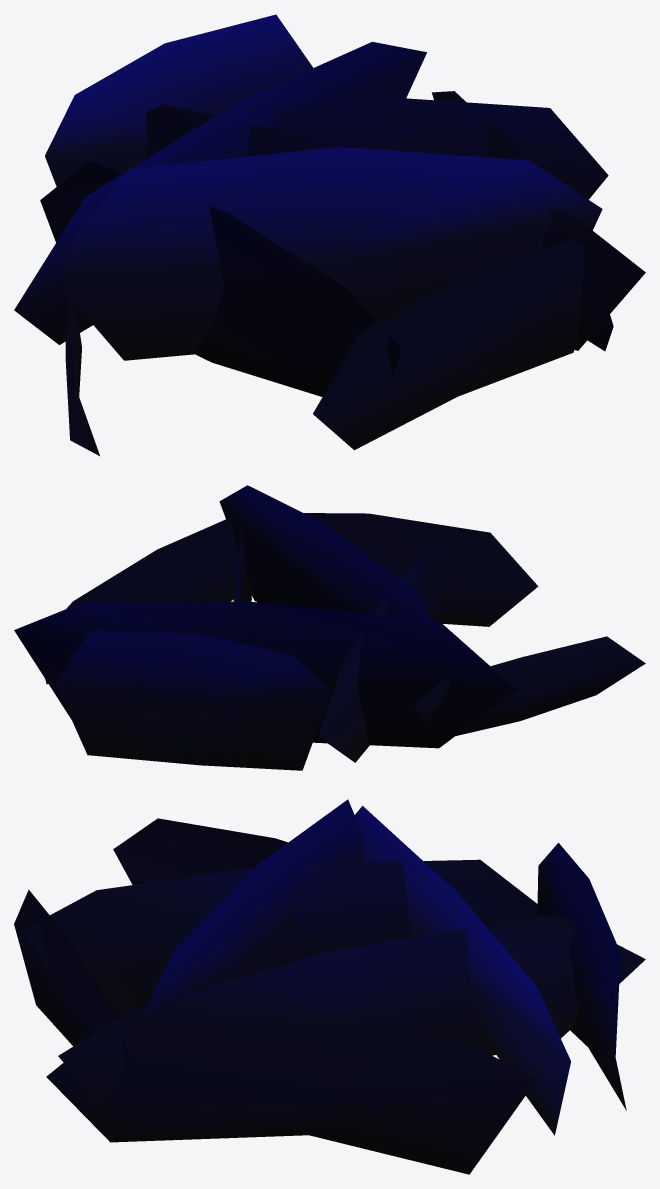
File: SM_Grass_XS_Patch_S_02.fbx
3 renders of one model, top to bottom at view 1: azimuth 30°, elevation 25°; view 2: azimuth 150°, elevation 25°; view 3: azimuth 270°, elevation 25°, orthographic. The views are drawn at different scales.
Parts seen in each view (by area): view 1: SM_Grass_XS_Patch_S_02; view 2: SM_Grass_XS_Patch_S_02; view 3: SM_Grass_XS_Patch_S_02.
Boxes of the visible parts, box(x1,y1,x2,y2) form: SM_Grass_XS_Patch_S_02: box(14, 14, 645, 455); SM_Grass_XS_Patch_S_02: box(14, 485, 645, 770); SM_Grass_XS_Patch_S_02: box(14, 799, 645, 1174).
Bounding box in the file's own units: 63.03 × 54.55 × 18.11.
